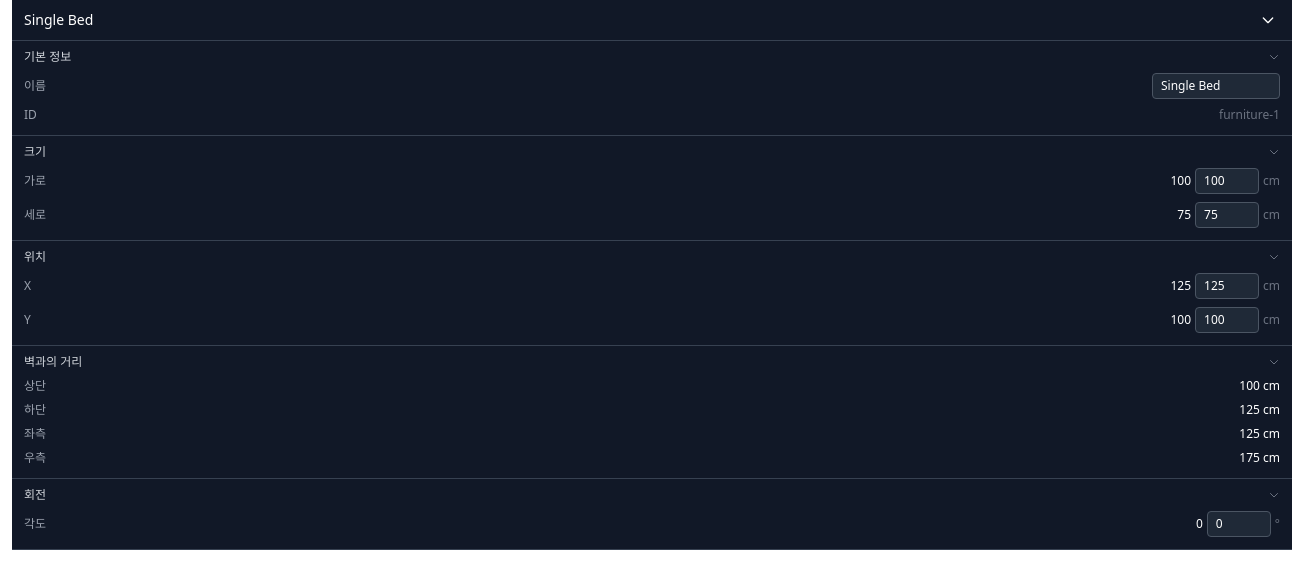
Test: AttributePanel › section collapse › toggles section on header click
Expected: the element with test id "section-content" showing "가로 100 cm 세로 75 cm" is shown, [12,168,1292,240]
Click the button with test id "section-header" showing "크기" at {"x": 35, "y": 152}, box [12,136,1292,168]
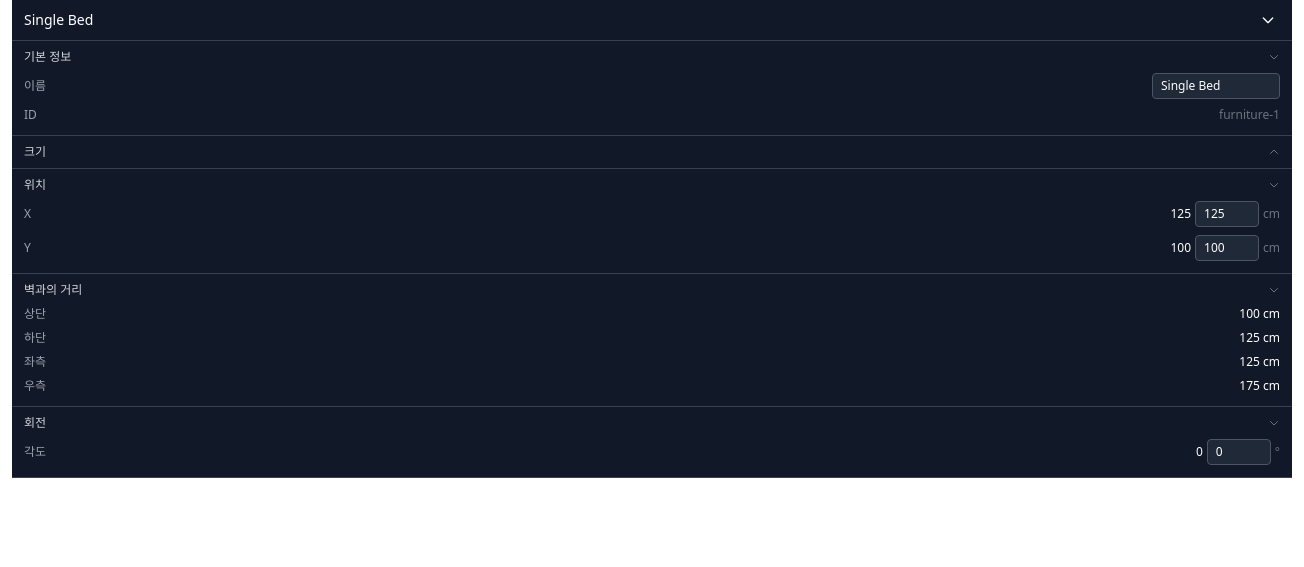
Click the button with test id "section-header" showing "크기" at {"x": 35, "y": 152}, box [12,136,1292,168]
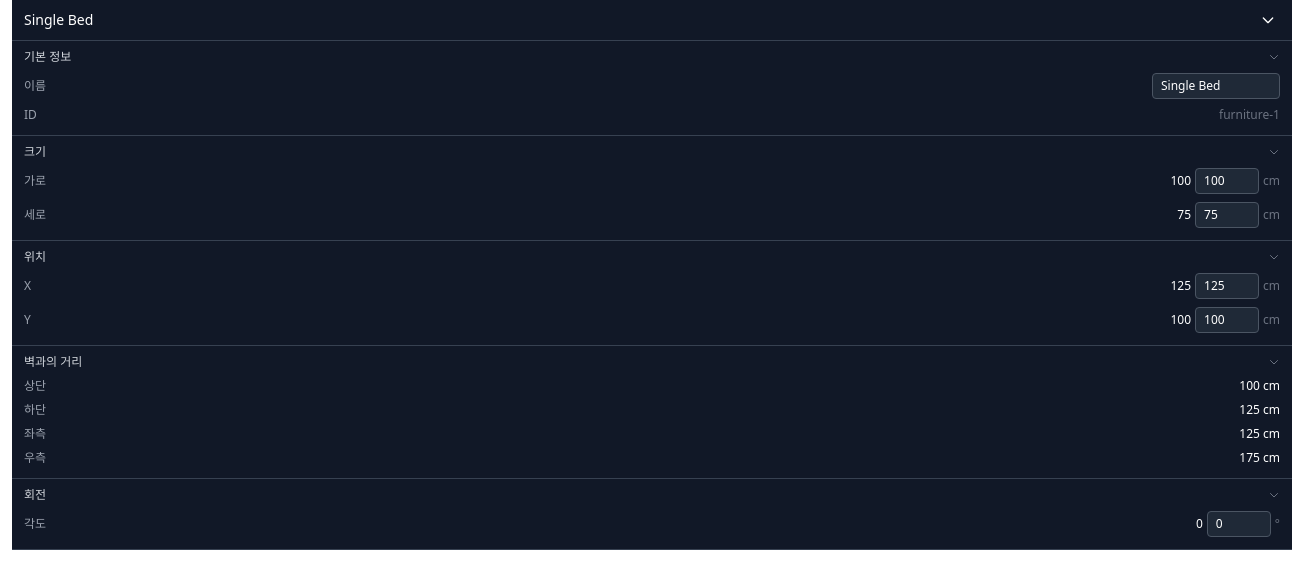
Now the element with test id "section-content" showing "가로 100 cm 세로 75 cm" is shown, box [12,168,1292,240]
